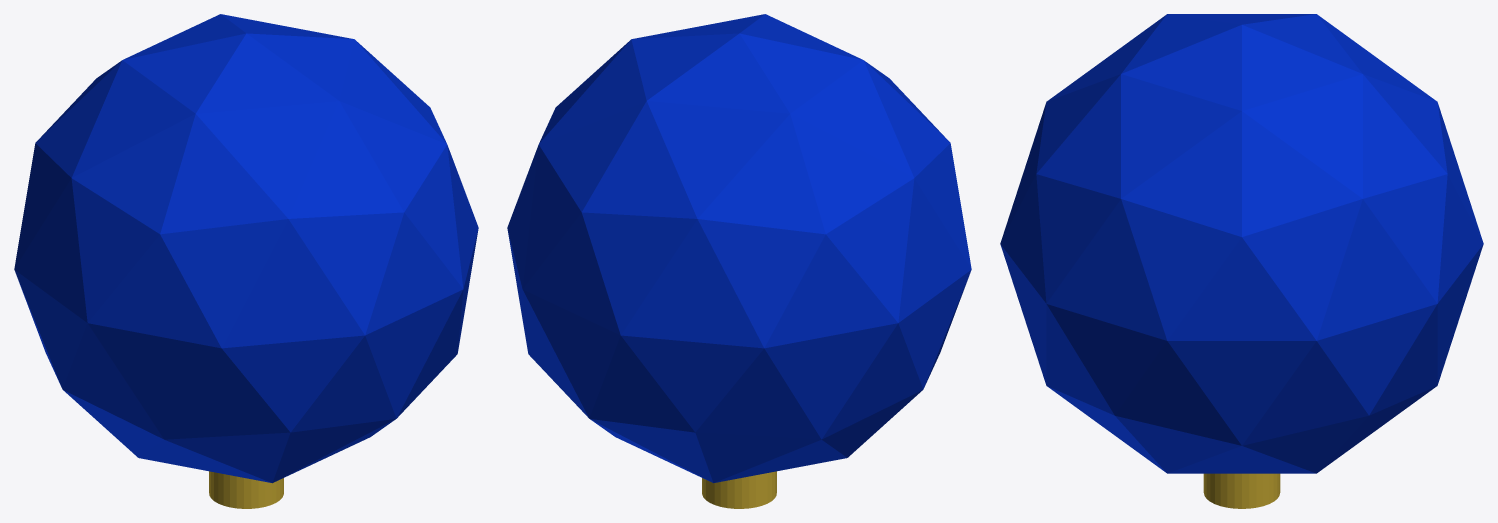
The model's file is Bush.obj.
3 views of the same model, side by side, from view 1: azimuth 30°, elevation 25°; view 2: azimuth 150°, elevation 25°; view 3: azimuth 270°, elevation 25° (orthographic).
Visible parts, largest first — view 1: Icosphere, Cylinder; view 2: Icosphere, Cylinder; view 3: Icosphere, Cylinder.
Part boxes in pixels (x1,y1,x2,y2): Icosphere: (14, 14, 478, 483); Cylinder: (209, 471, 283, 508); Icosphere: (507, 14, 971, 483); Cylinder: (702, 471, 776, 508); Icosphere: (1000, 14, 1483, 473); Cylinder: (1203, 473, 1280, 508).
Size of the model in its own units: 2.07 by 2.32 by 2.18.
